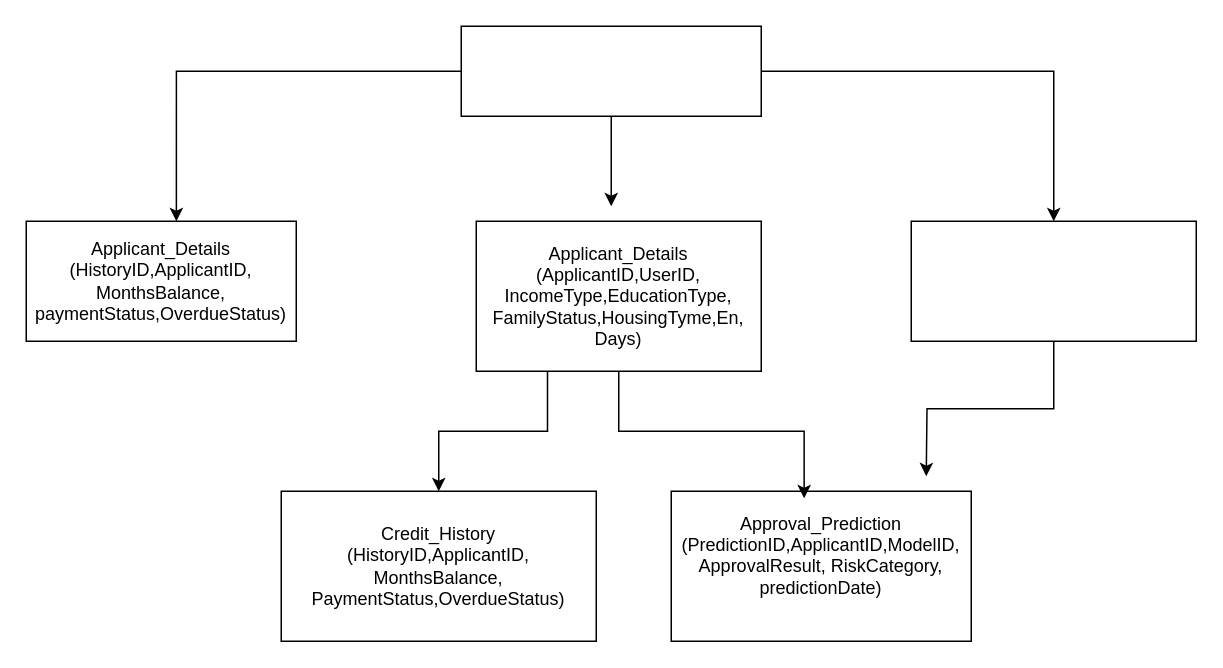
Some shapes in this 1223 by 668 pixel diagram are drawn without their labels. Here are the shapes that lost their labels. From the top down, the box of each, then its label:
(460, 25, 761, 116): Users (UsersID ,Nmae,Email,password, Role)
(910, 220, 1196, 341): ML_Model (ModelID,ModelName, AlgorithmType,Accuracy, ModelFile)
